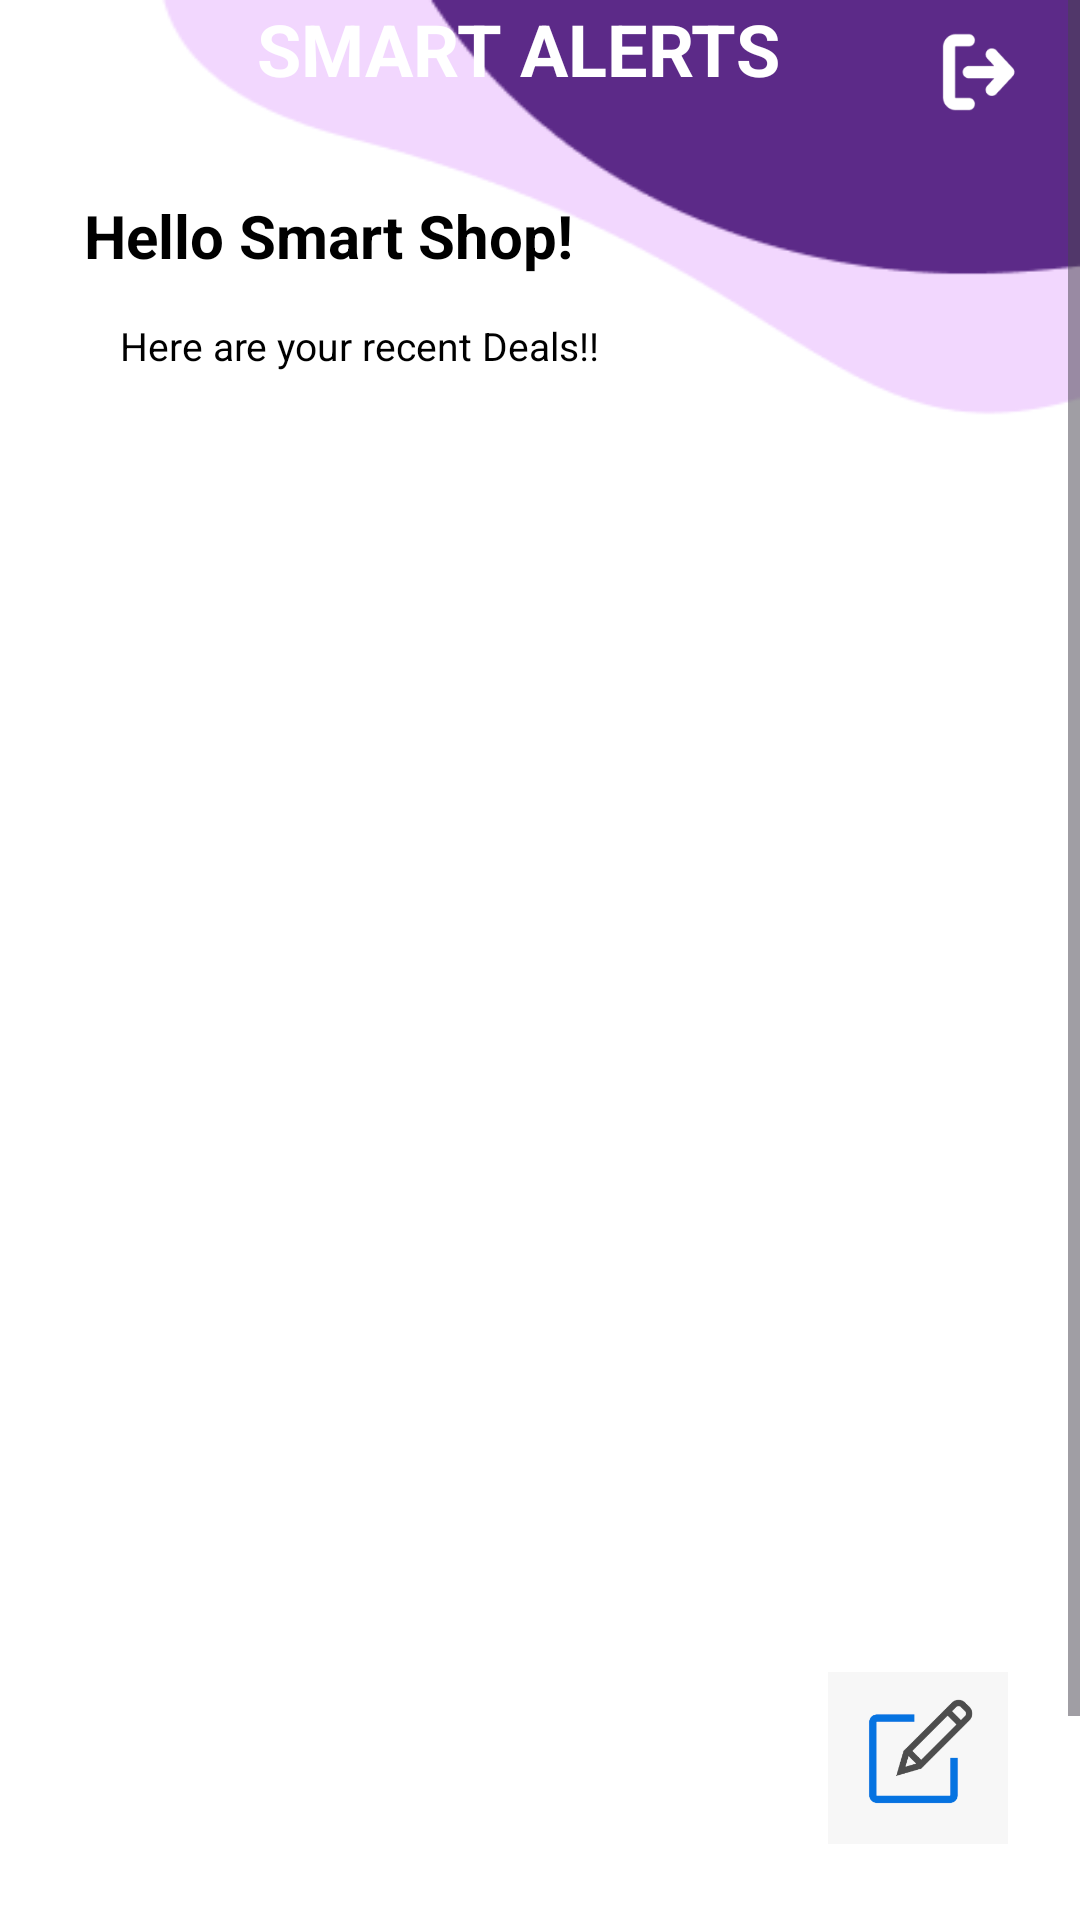

Icons on this 1080*1920 Android screen, each with its box as bbox=(x1, y1, x2, y2):
edit: bbox=(869, 1699, 973, 1803)
